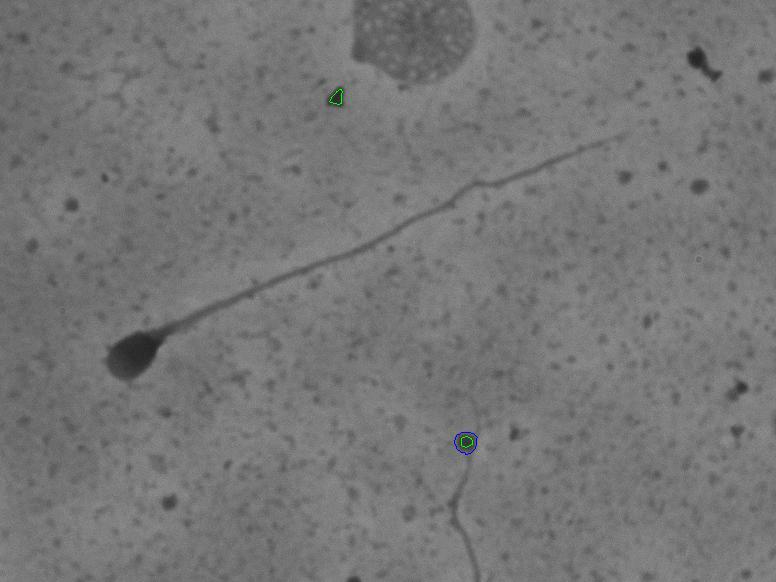Normal: (83, 108, 652, 413)
